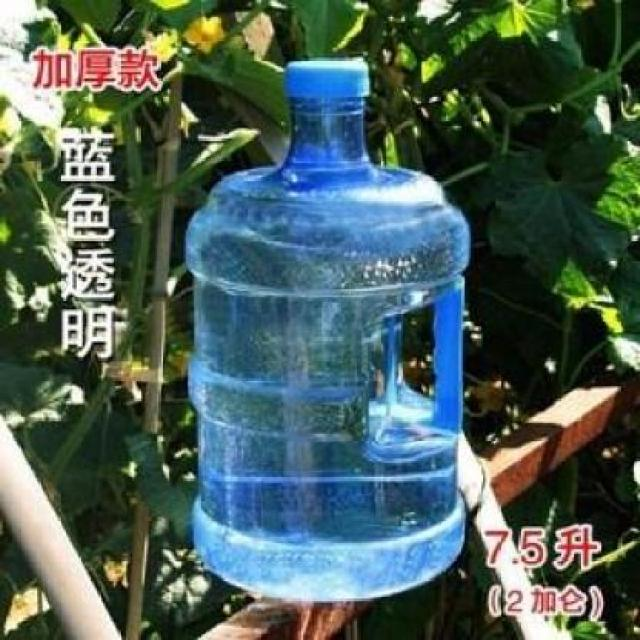coolerbottle: (181, 56, 477, 606)
